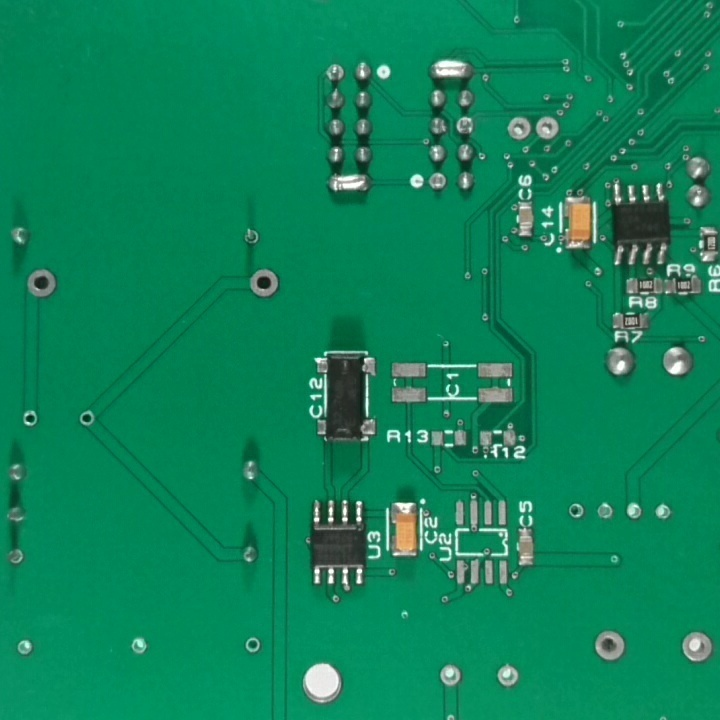F: (590, 629, 629, 669), (678, 626, 716, 665), (21, 266, 61, 302), (246, 266, 283, 300), (493, 660, 524, 694), (436, 660, 469, 689), (533, 113, 563, 143), (506, 116, 531, 141), (127, 634, 151, 657), (455, 115, 477, 140), (15, 635, 35, 662), (324, 63, 347, 86), (79, 407, 101, 431), (594, 500, 616, 524), (427, 171, 450, 192), (4, 546, 25, 569), (19, 407, 39, 431), (567, 501, 588, 523), (241, 635, 264, 655), (653, 500, 673, 523), (241, 227, 263, 247), (624, 502, 644, 524)
P: (427, 58, 477, 86), (324, 171, 374, 198)
